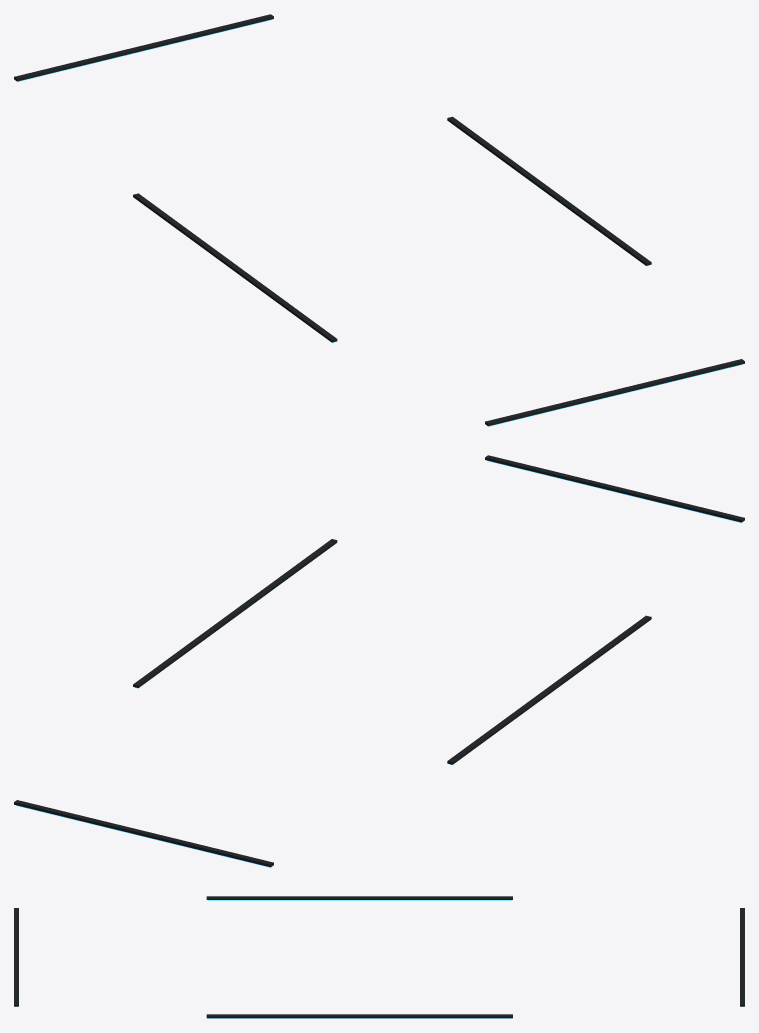
The model's file is apex_v8.glb.
3 renders of one model, top to bottom at view 1: azimuth 30°, elevation 25°; view 2: azimuth 150°, elevation 25°; view 3: azimuth 270°, elevation 25°, orthographic. The views are drawn at different scales.
Parts seen in each view (by area): view 1: model; view 2: model; view 3: model.
Part boxes in pixels (x1,y1,x2,y2): model: [14, 14, 744, 426]; model: [14, 455, 744, 867]; model: [14, 896, 744, 1018].
Size of the model in its own units: 1.64 by 0.018 by 4.21.
Materials: 2 (1 with a texture image).
